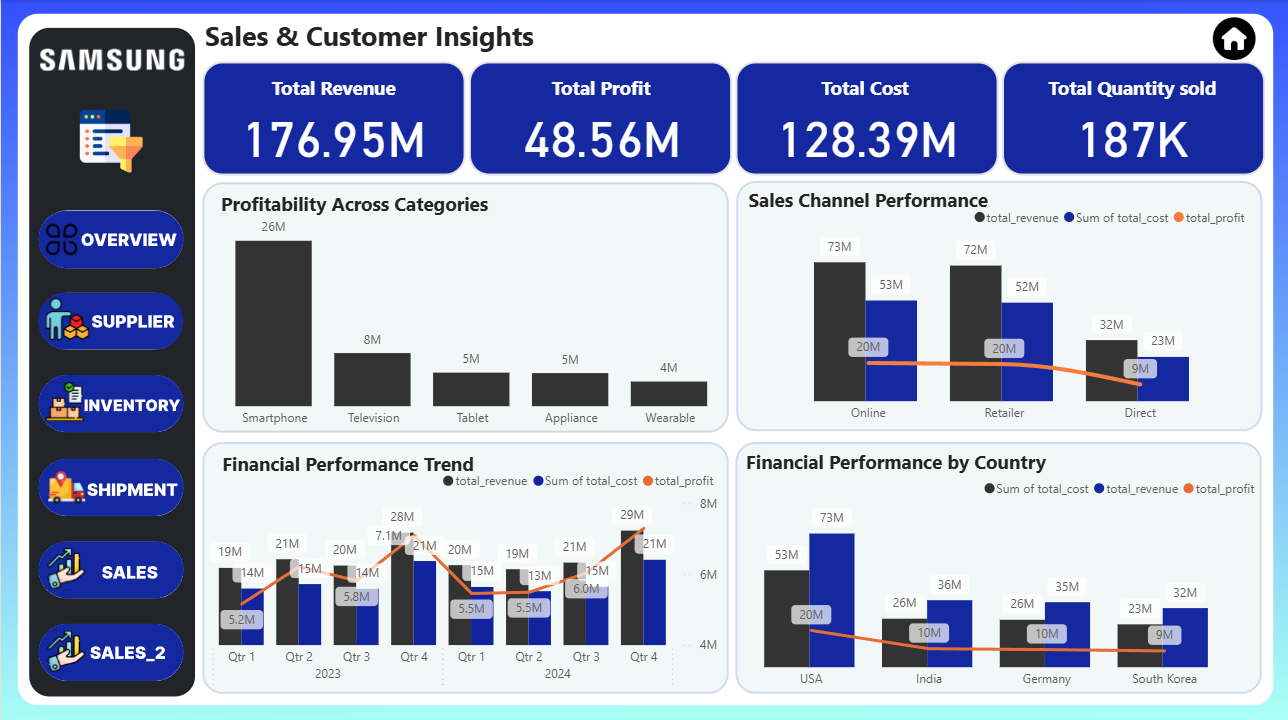

The dashboard page shown, as its layout file describes it:
{"tool":"powerbi","page":{"name":"Sales & Customer ","canvas":[1280,720],"ordinal":5},"visuals":[{"type":"card","fields":{"Values":["fact_sales.total_revenue"]},"box":[200,99.7,261,66],"z":0},{"type":"actionButton","box":[37.2,208.1,144.2,58.1],"z":0,"group":"g1"},{"type":"actionButton","box":[37.2,290.7,143,57],"z":0,"group":"g4"},{"type":"actionButton","box":[37.6,372.9,144,57],"z":0,"group":"g2"},{"type":"actionButton","box":[37.2,455.2,144.2,57.1],"z":0,"group":"g5"},{"type":"actionButton","box":[37.2,537.5,144.2,57.1],"z":0,"group":"g3"},{"type":"actionButton","box":[37.2,619.8,144.2,57.1],"z":0,"group":"g6"},{"type":"card","fields":{"Values":["fact_sales.total_profit"]},"box":[466.2,99.7,261,66],"z":1000},{"type":"card","fields":{"Values":["Sum(fact_sales.total_cost)"]},"box":[729.9,99.7,261,66],"z":2000},{"type":"card","fields":{"Values":["Sum(fact_sales.quantity_sold)"]},"box":[993.5,99.7,261,66],"z":3000},{"type":"lineClusteredColumnComboChart","fields":{"Y":["fact_sales.total_revenue","Sum(fact_sales.total_cost)"],"Category":["dim_date.date.Variation.Date Hierarchy.Year","dim_date.date.Variation.Date Hierarchy.Quarter"],"Y2":["fact_sales.total_profit"]},"box":[188.3,458.4,528.6,233.8],"z":4000},{"type":"lineClusteredColumnComboChart","fields":{"Category":["dim_customer.country"],"Y":["Sum(fact_sales.total_cost)","fact_sales.total_revenue"],"Y2":["fact_sales.total_profit"]},"box":[706.5,464.9,548.1,227.3],"z":5000},{"type":"clusteredColumnChart","fields":{"Y":["fact_sales.total_profit"],"Category":["dim_product.category"]},"box":[188.3,201.3,559.7,232.5],"z":6000},{"type":"lineClusteredColumnComboChart","fields":{"Category":["dim_customer.channel_type"],"Y":["fact_sales.total_revenue","Sum(fact_sales.total_cost)"],"Y2":["fact_sales.total_profit"]},"box":[748.1,196.1,496.1,232.5],"z":7000},{"type":"textbox","box":[200,70.1,261,39],"z":8000},{"type":"textbox","box":[727.3,70.1,261,39],"z":9000},{"type":"textbox","box":[993.5,70.1,261,39],"z":10000},{"type":"textbox","box":[464.9,70.1,261,39],"z":11000},{"type":"textbox","box":[213,184.4,302.6,35.1],"z":12000},{"type":"textbox","box":[737.7,181.8,302.6,35.1],"z":13000},{"type":"textbox","box":[214.3,442.9,302.6,35.1],"z":14000},{"type":"textbox","box":[735.1,440.3,331.2,35.1],"z":15000},{"type":"group","id":"g1","title":"overview_button","box":[37.2,208.1,144.2,58.1],"z":17000},{"type":"group","id":"g2","title":"overview_button","box":[37.6,372.9,144,57],"z":18000},{"type":"group","id":"g3","title":"overview_button","box":[37.2,537.5,144.2,57],"z":19000},{"type":"group","id":"g4","title":"overview_button","box":[37.2,290.7,143,57],"z":20000},{"type":"group","id":"g5","title":"overview_button","box":[37.2,455.2,144.2,57],"z":21000},{"type":"group","id":"g6","title":"overview_button","box":[37.2,619.8,144.2,57],"z":22000},{"type":"image","box":[56.4,104.5,106.9,72],"z":23000},{"type":"textbox","box":[197.6,12.3,520.3,46.9],"z":23501},{"type":"image","box":[1184.7,12.3,80.4,52.5],"z":23502}]}

Visuals, with their boxes in screenshot pixels (x1, y1, x2, y2), scaled from the page's 1280x720 canvas onto the 1288x720 screenshot:
card - fact_sales.total_revenue: box=[201, 100, 464, 166]
actionButton: box=[37, 208, 183, 266]
actionButton: box=[37, 291, 181, 348]
actionButton: box=[38, 373, 183, 430]
actionButton: box=[37, 455, 183, 512]
actionButton: box=[37, 538, 183, 595]
actionButton: box=[37, 620, 183, 677]
card - fact_sales.total_profit: box=[469, 100, 732, 166]
card - Sum(fact_sales.total_cost): box=[734, 100, 997, 166]
card - Sum(fact_sales.quantity_sold): box=[1000, 100, 1262, 166]
lineClusteredColumnComboChart - fact_sales.total_revenue x Sum(fact_sales.total_cost): box=[189, 458, 721, 692]
lineClusteredColumnComboChart - dim_customer.country x Sum(fact_sales.total_cost): box=[711, 465, 1262, 692]
clusteredColumnChart - fact_sales.total_profit x dim_product.category: box=[189, 201, 753, 434]
lineClusteredColumnComboChart - dim_customer.channel_type x fact_sales.total_revenue: box=[753, 196, 1252, 429]
textbox: box=[201, 70, 464, 109]
textbox: box=[732, 70, 994, 109]
textbox: box=[1000, 70, 1262, 109]
textbox: box=[468, 70, 730, 109]
textbox: box=[214, 184, 519, 220]
textbox: box=[742, 182, 1047, 217]
textbox: box=[216, 443, 520, 478]
textbox: box=[740, 440, 1073, 475]
"overview_button" group: box=[37, 208, 183, 266]
"overview_button" group: box=[38, 373, 183, 430]
"overview_button" group: box=[37, 538, 183, 594]
"overview_button" group: box=[37, 291, 181, 348]
"overview_button" group: box=[37, 455, 183, 512]
"overview_button" group: box=[37, 620, 183, 677]
image: box=[57, 104, 164, 176]
textbox: box=[199, 12, 722, 59]
image: box=[1192, 12, 1273, 65]
